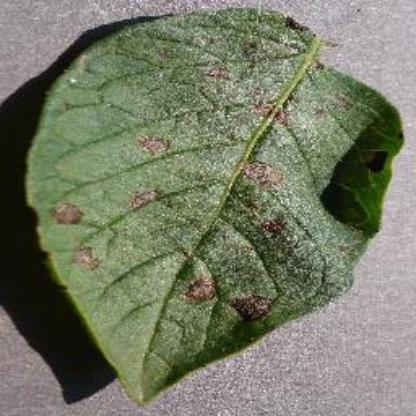Early-Blight: (17, 5, 416, 408)
